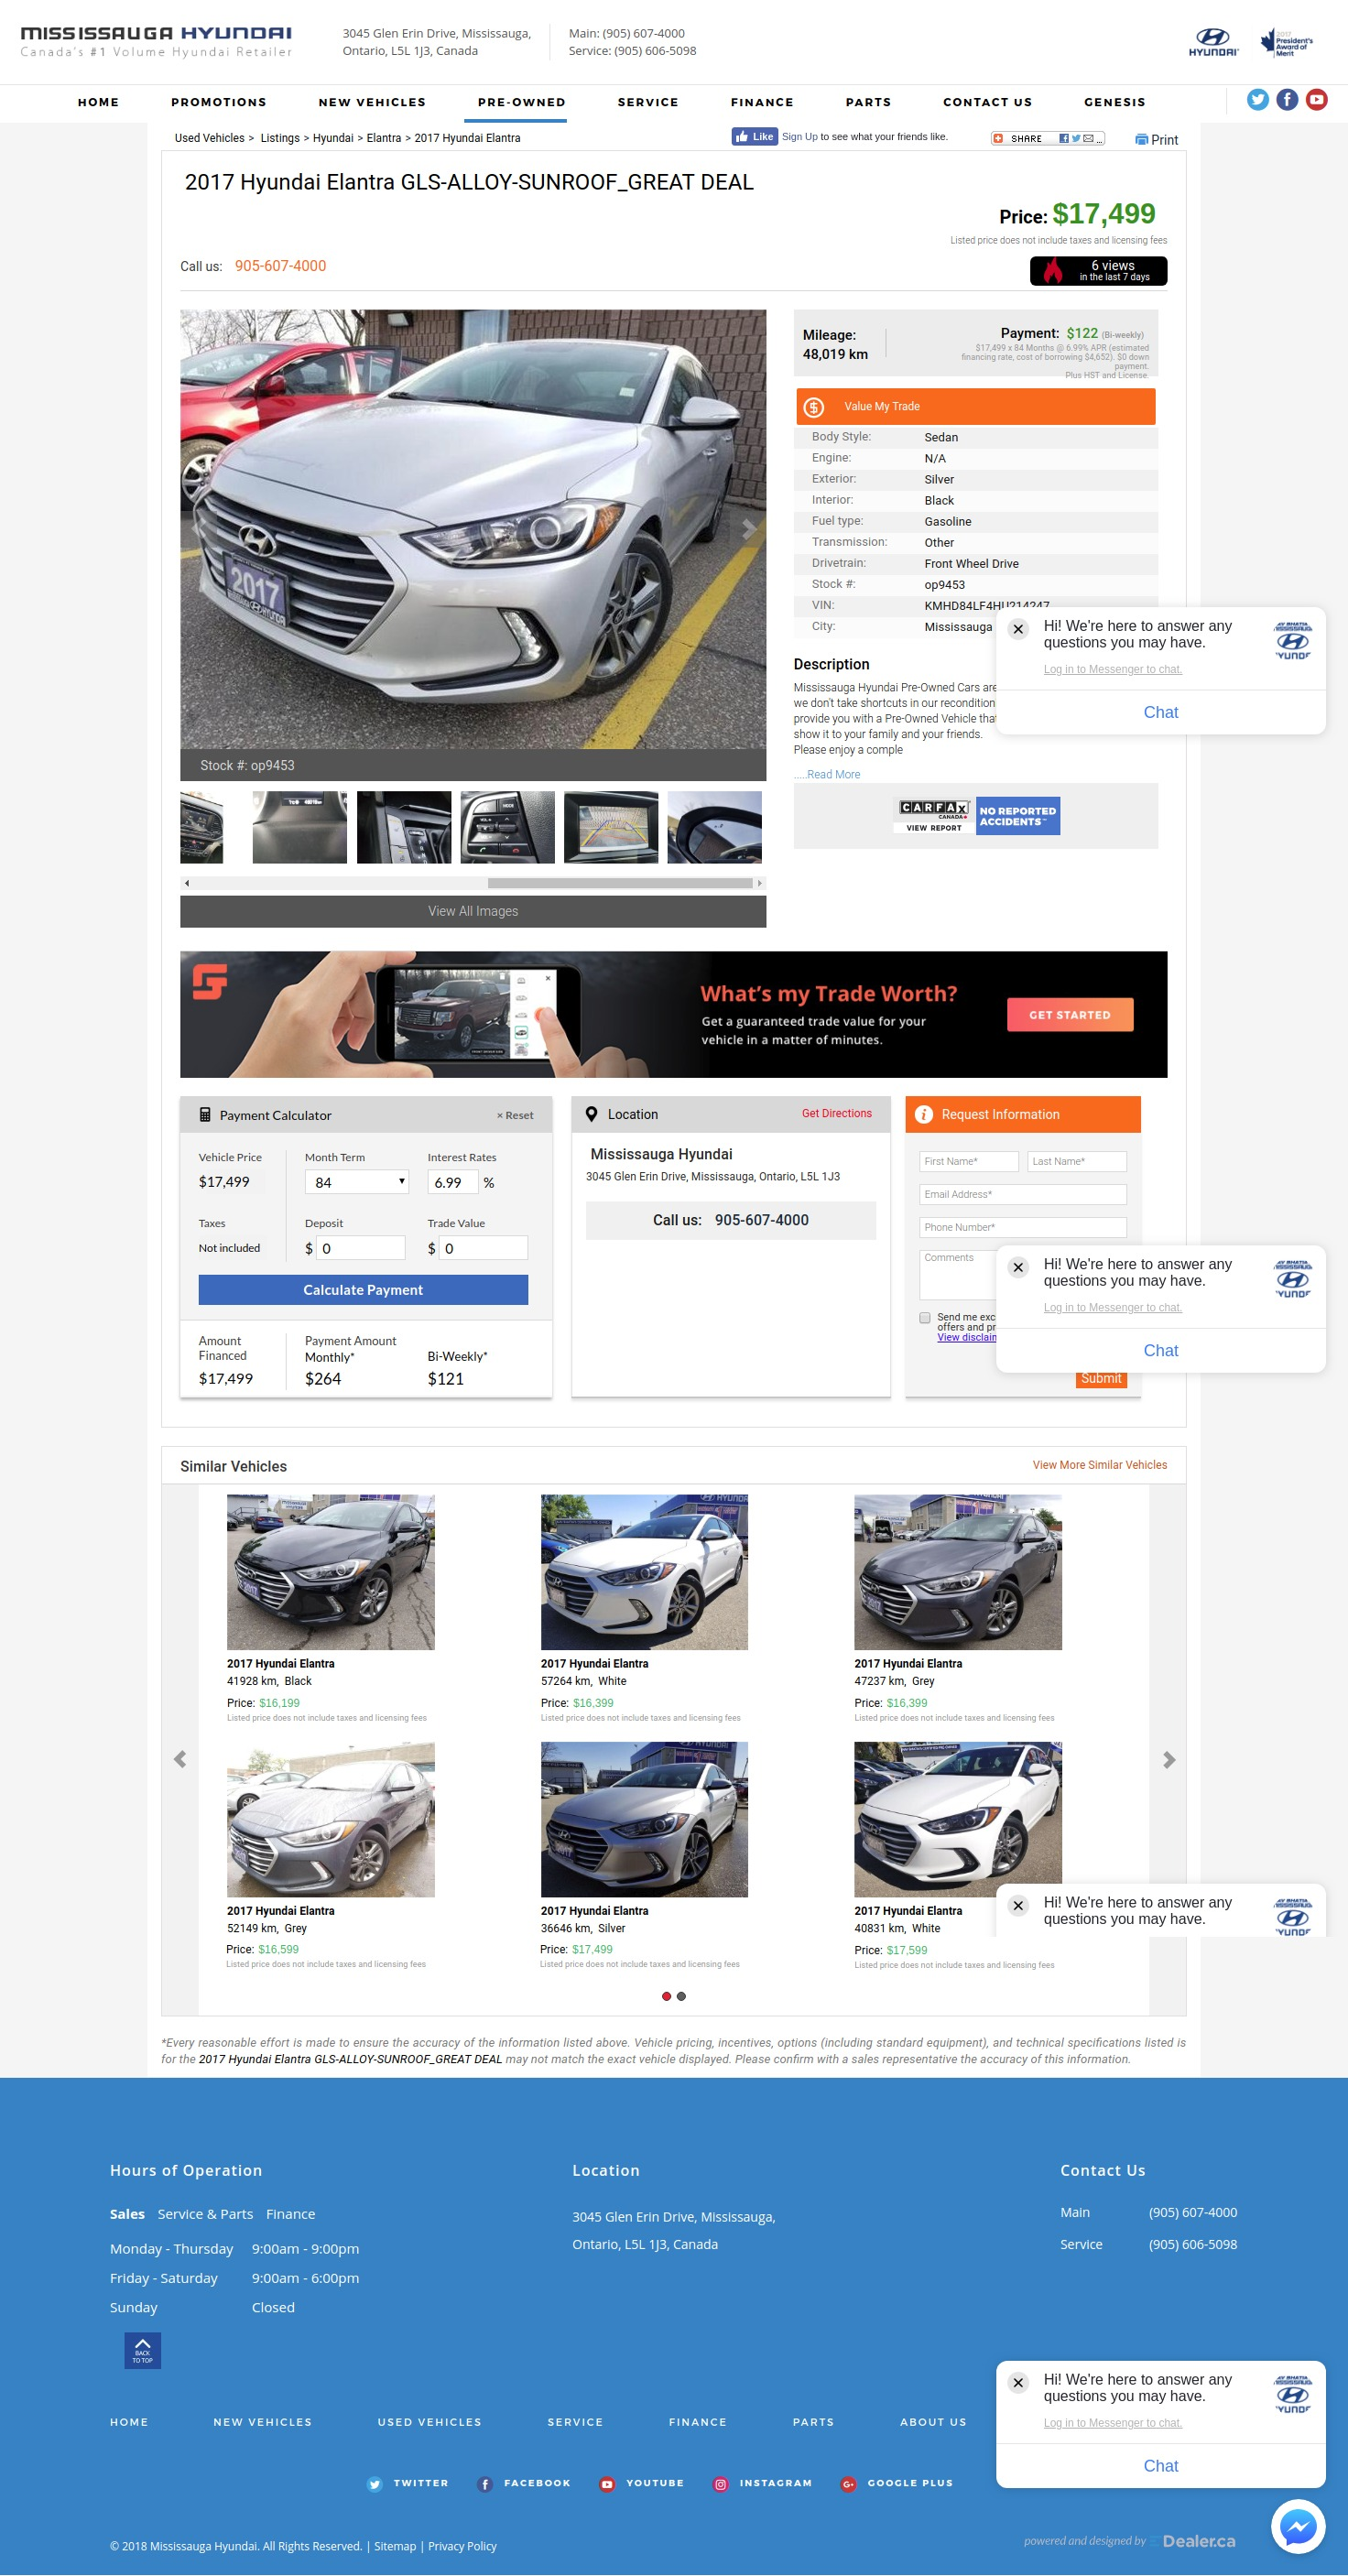car: (757, 881, 763, 888)
